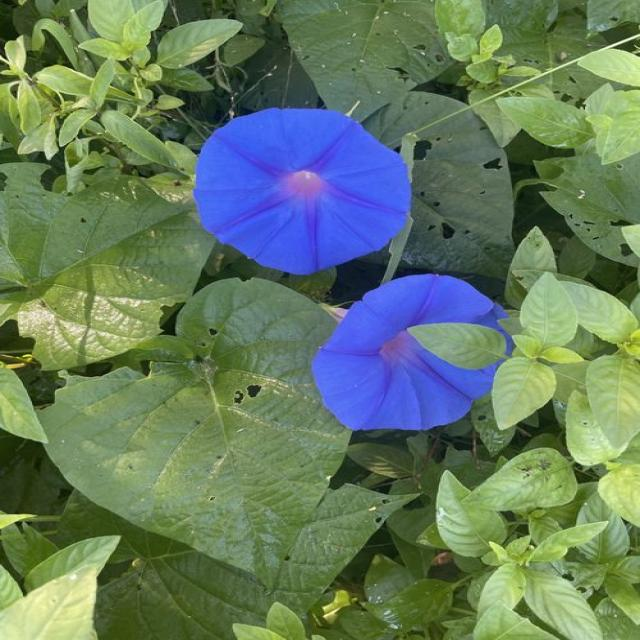ipomoea: (188, 105, 414, 277), (307, 271, 517, 434)
